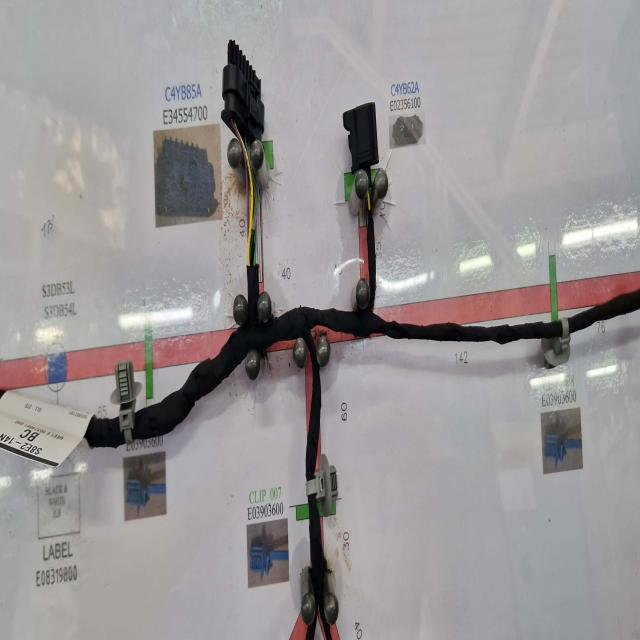Clip: (304, 455, 337, 518), (111, 361, 136, 443), (542, 315, 571, 364)
Connector: (223, 40, 266, 142), (343, 105, 378, 176)
Gape: (237, 143, 261, 258), (362, 166, 376, 214)
Info: (5, 392, 91, 465)
MHEV_N11_Cable: (138, 300, 640, 635), (83, 412, 118, 442)
